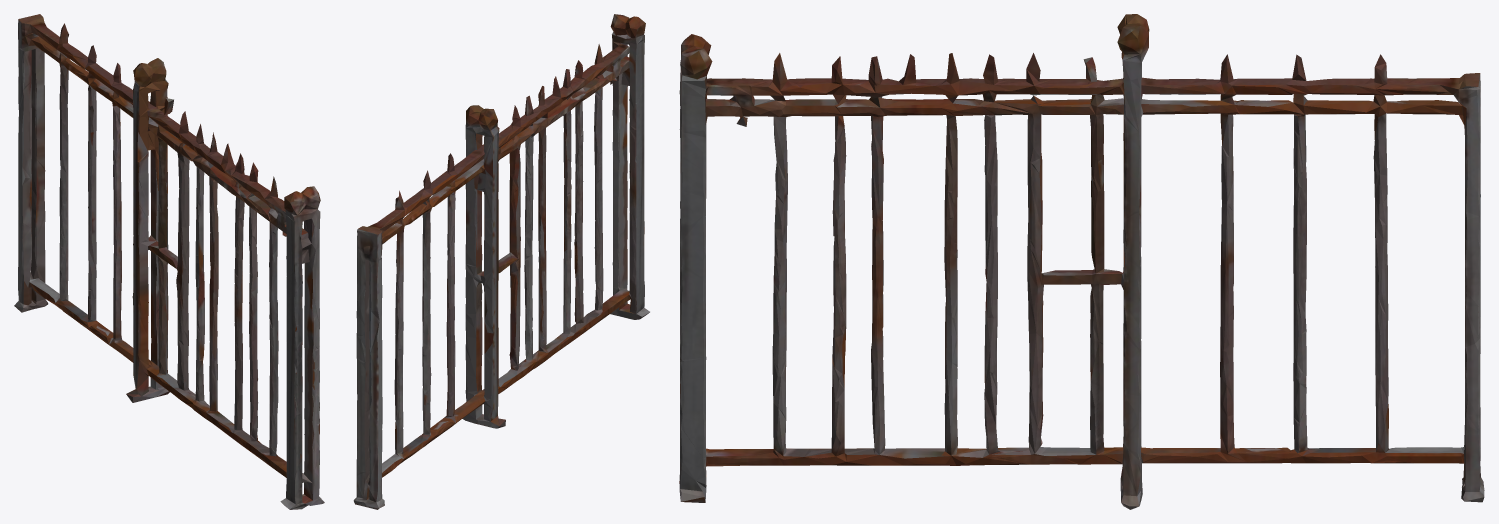
Rendered from bar_iron_gate.glb.
3 renders of one model, left to right at view 1: azimuth 30°, elevation 25°; view 2: azimuth 150°, elevation 25°; view 3: azimuth 270°, elevation 25°, orthographic. The views are drawn at different scales.
Parts seen in each view (by area): view 1: bar_iron_gate_tex; view 2: bar_iron_gate_tex; view 3: bar_iron_gate_tex.
Part boxes in pixels (<box>): bar_iron_gate_tex: <box>14,14,324,509</box>; bar_iron_gate_tex: <box>353,14,649,509</box>; bar_iron_gate_tex: <box>679,14,1484,509</box>.
Size of the model in its own units: 0.183 by 1.39 by 2.12.
Materials: 1 (1 with a texture image).
